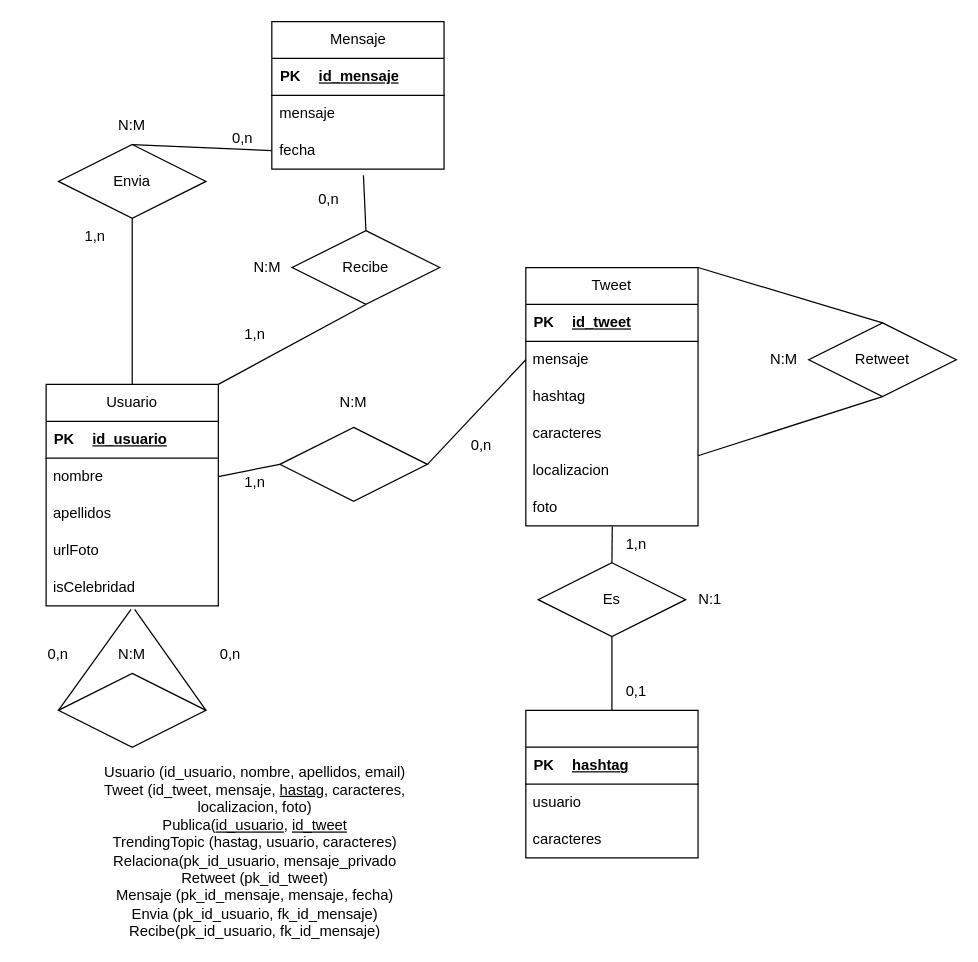
This 978x962 diagram has some shape labels left out. The shapes that lost their labels are listed below. From the top down, each one's box as (x1, y1, x2, y2) in pixels, then its label:
(279, 426, 427, 501): Publica
(57, 672, 206, 747): Relaciona
(525, 709, 698, 858): TrendingTopic
